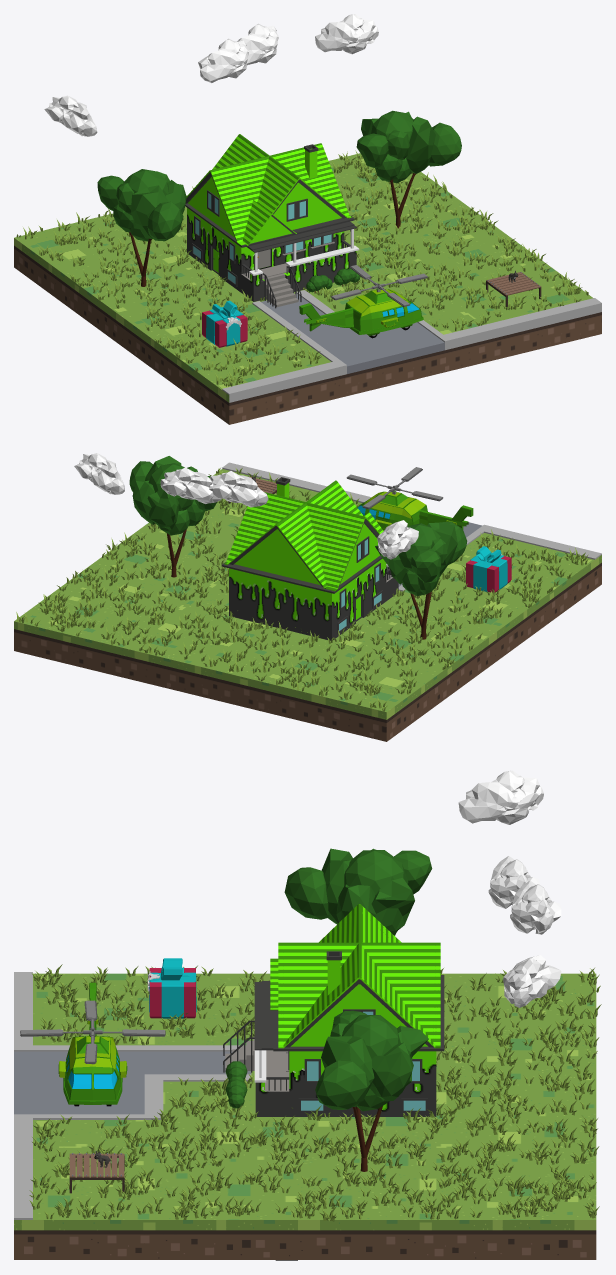
The picture shows the model from 3 angles, top to bottom: view 1: azimuth 30°, elevation 25°; view 2: azimuth 150°, elevation 25°; view 3: azimuth 270°, elevation 25°; orthographic projection. The views are drawn at different scales.
Parts seen in each view (by area): view 1: Cube.006, Cube.754, Circle.012_Grass_0.192, Cube.007, tree, tree.001, VEHICLES_HELICOPTER, OBJRANDOM_GIANT_PRESENT, Cube.009; view 2: Cube.006, Cube.754, Circle.012_Grass_0.192, Cube.007, tree.001, tree, VEHICLES_HELICOPTER, OBJRANDOM_GIANT_PRESENT; view 3: Cube.006, Circle.012_Grass_0.192, Cube.754, tree, Cube.007, tree.001, VEHICLES_HELICOPTER, OBJRANDOM_GIANT_PRESENT, Cube.009.
Boxes of the visible parts, x1,y1,x2,y2 form: Cube.006: (14, 153, 601, 424); Cube.754: (185, 134, 359, 308); Circle.012_Grass_0.192: (16, 150, 588, 386); Cube.007: (44, 14, 378, 136); tree: (356, 110, 461, 228); tree.001: (97, 169, 186, 286); VEHICLES_HELICOPTER: (299, 265, 427, 338); OBJRANDOM_GIANT_PRESENT: (202, 300, 247, 347); Cube.009: (486, 272, 541, 306); Cube.006: (14, 462, 601, 741); Cube.754: (221, 477, 398, 640); Circle.012_Grass_0.192: (16, 468, 588, 711); Cube.007: (74, 453, 418, 559); tree.001: (375, 521, 467, 639); tree: (129, 456, 216, 577); VEHICLES_HELICOPTER: (346, 467, 473, 530); OBJRANDOM_GIANT_PRESENT: (466, 546, 511, 592); Cube.006: (14, 972, 596, 1259); Circle.012_Grass_0.192: (29, 964, 601, 1221); Cube.754: (223, 904, 444, 1116); tree: (315, 1010, 428, 1171); Cube.007: (458, 770, 561, 1007); tree.001: (284, 848, 432, 935); VEHICLES_HELICOPTER: (20, 982, 165, 1106); OBJRANDOM_GIANT_PRESENT: (147, 958, 196, 1018); Cube.009: (69, 1153, 124, 1193).
Size of the model in its own units: 4071 by 2184 by 4040.
34 materials, 4 textured.
